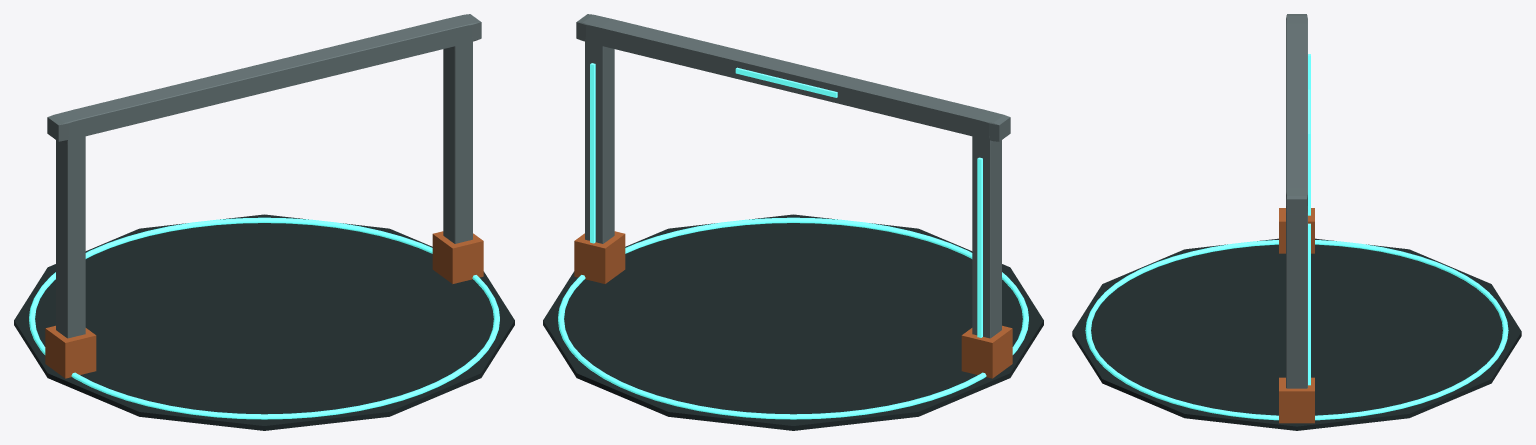
Rendered from extraction_gate.glb.
The picture shows the model from 3 angles, left to right: view 1: azimuth 30°, elevation 25°; view 2: azimuth 150°, elevation 25°; view 3: azimuth 270°, elevation 25°; orthographic projection. The views are drawn at different scales.
Bounding box in the file's own units: 5.6 × 3.24 × 5.6.
